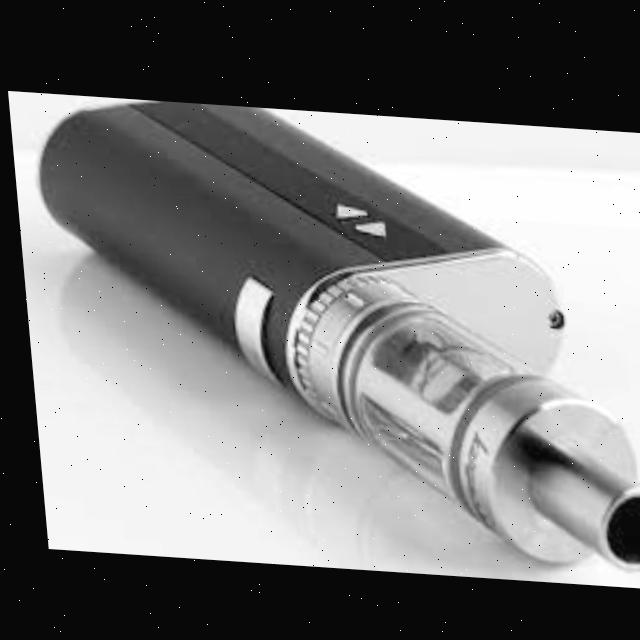vape: (37, 99, 640, 568)
